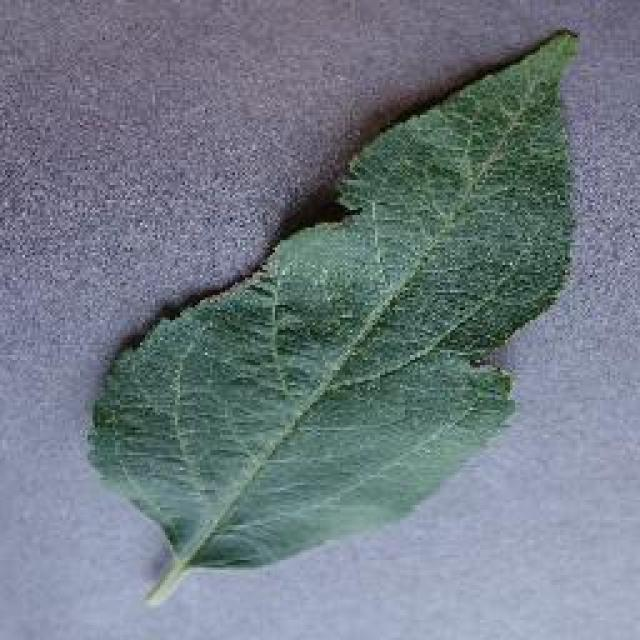apple healthy: (82, 25, 582, 605)
